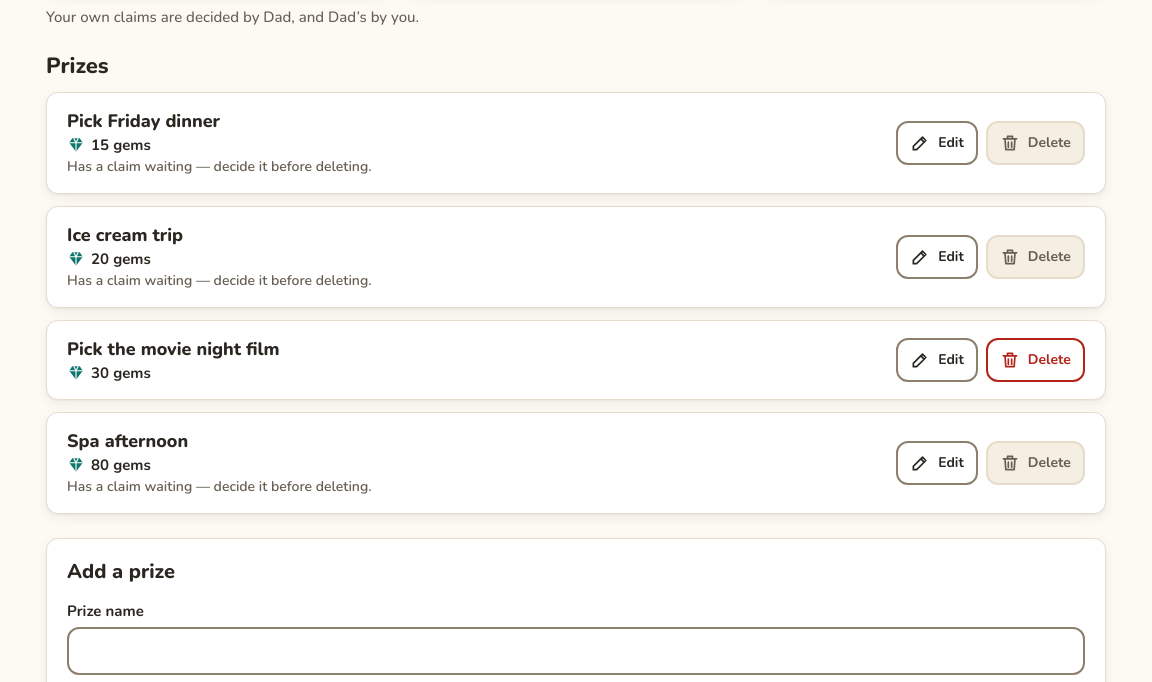
it: REQ-024 parents manage prizes › Delete is off while a claim waits; other prizes can be deleted after a second tap
The width and height of the screenshot is (1152, 682).
(page scrolled)
Expected: the button named "Delete Pick Friday dinner" is disabled, [986,121,1085,165]
Expected: the text "Has a claim waiting — decide it before deleting." is shown 3 times, [67,157,372,176]; [67,271,372,290]; [67,477,372,496]
Click the button named "Delete Pick the movie night film": (1035,360) [986,338,1085,382]
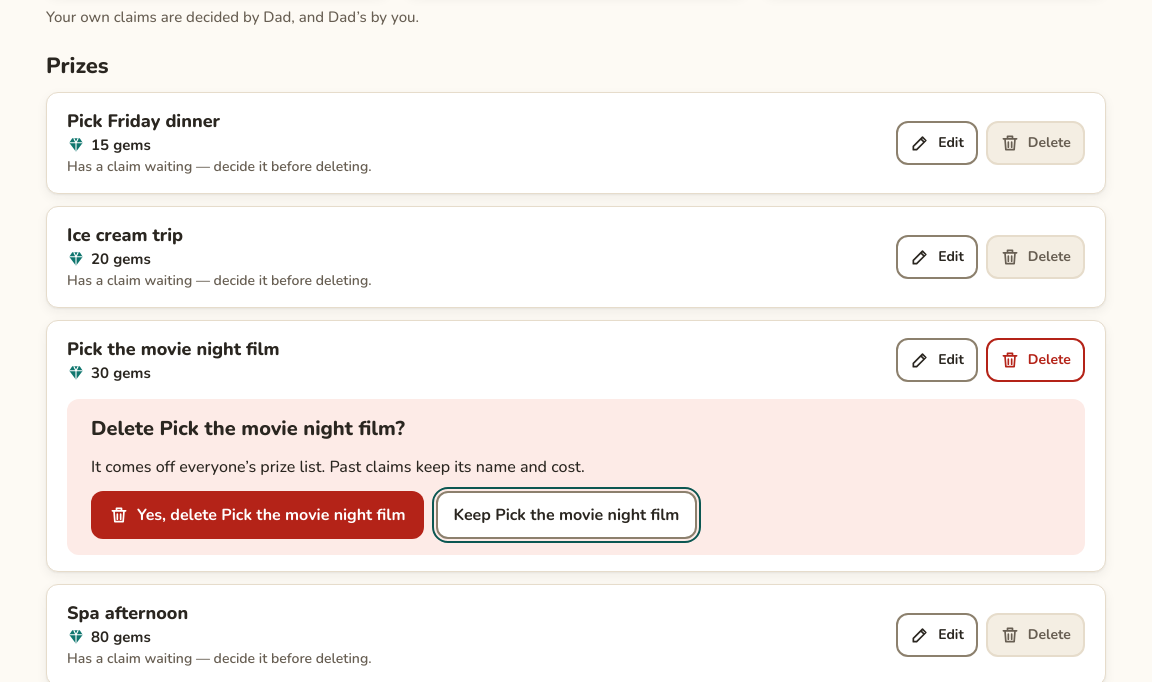
Press Escape
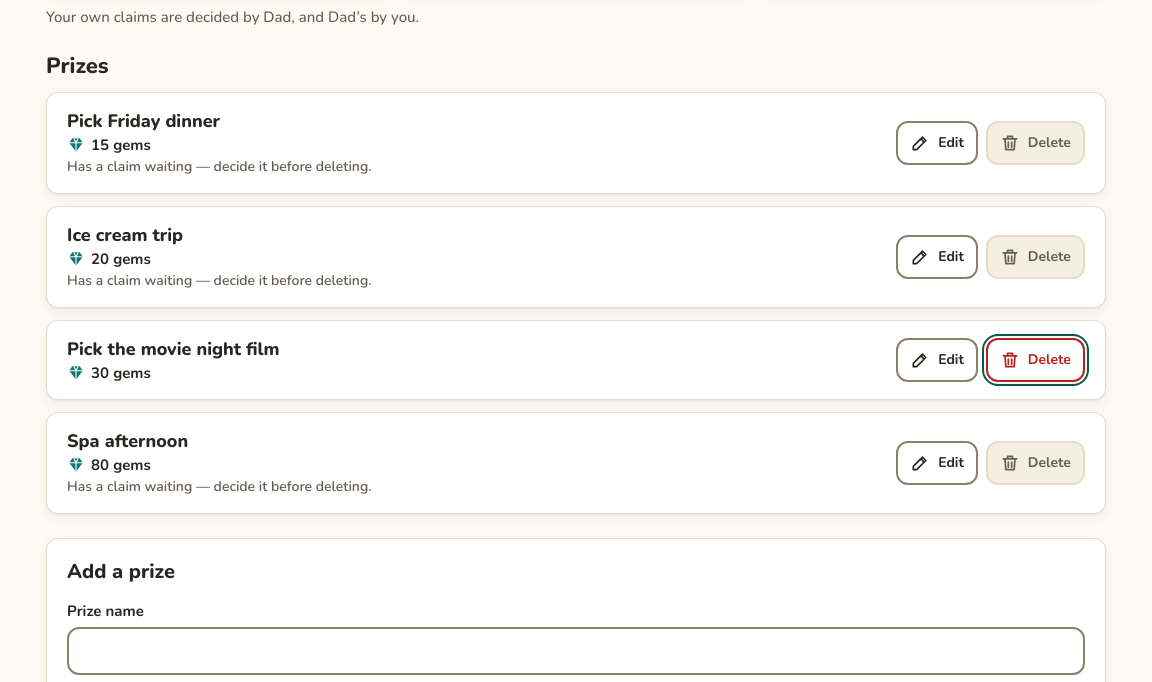
Result: the dialog is gone
Click the button named "Delete Pick the movie night film": (1035,360) [986,338,1085,382]
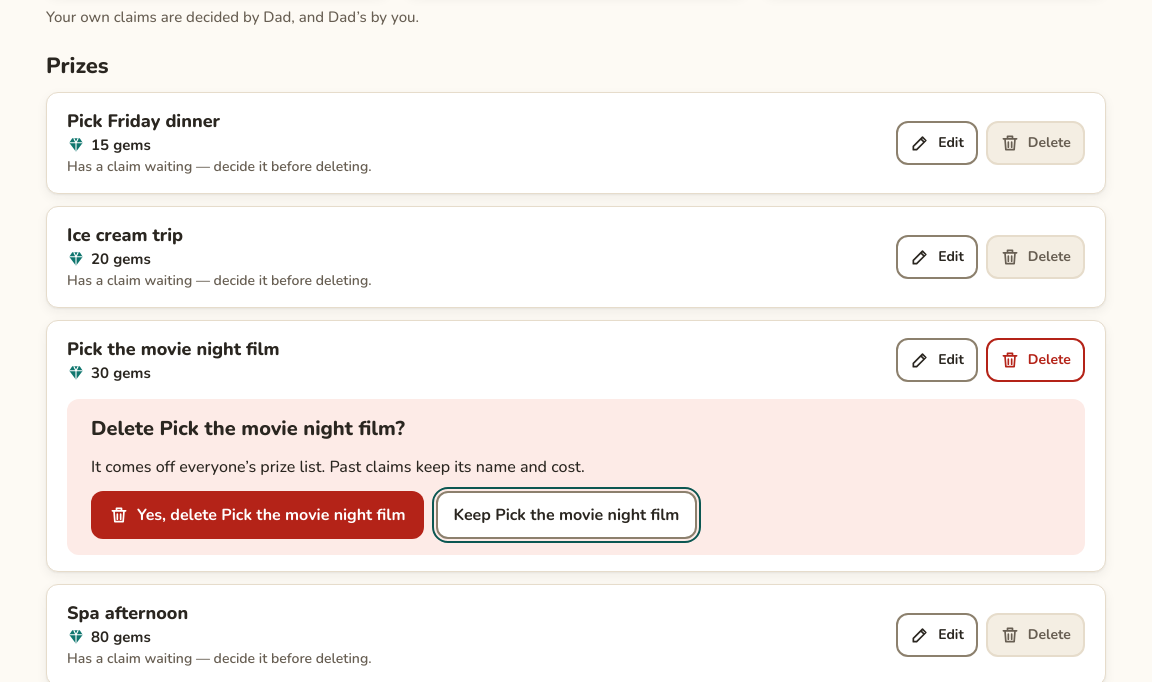
Click the button "Yes, delete Pick the movie night film": (257,515) [91,491,424,539]
(page scrolled)
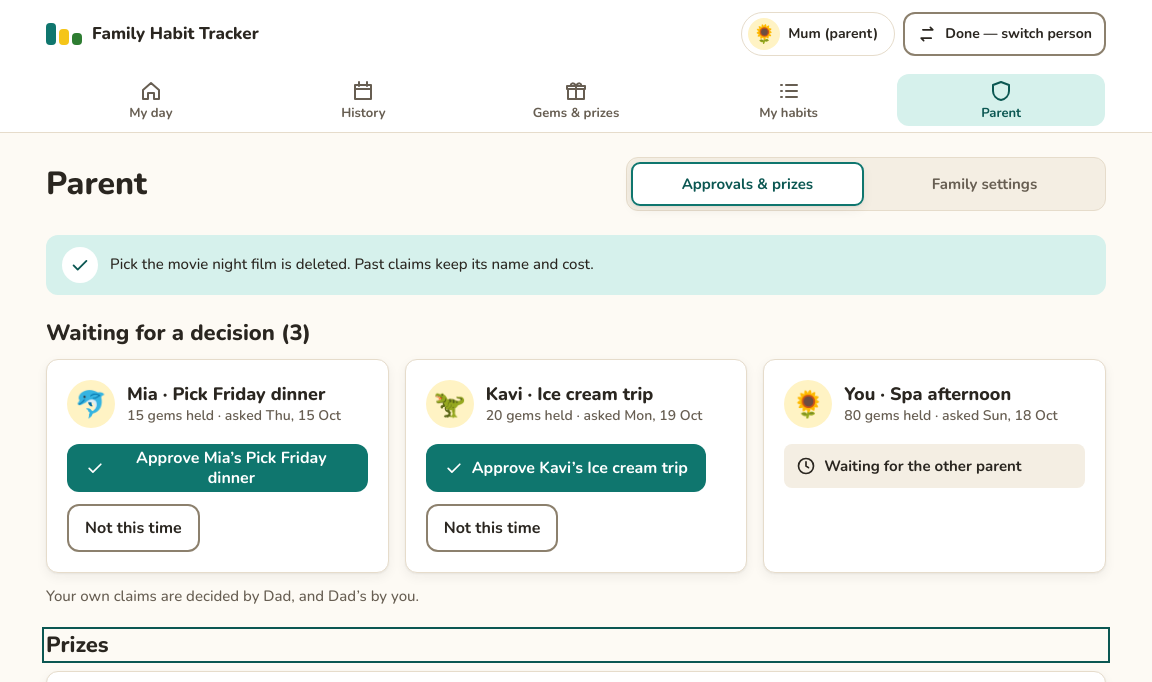
Result: the text "Pick the movie night film is deleted. Past claims keep its name and cost." is shown at [110,254,594,274]
